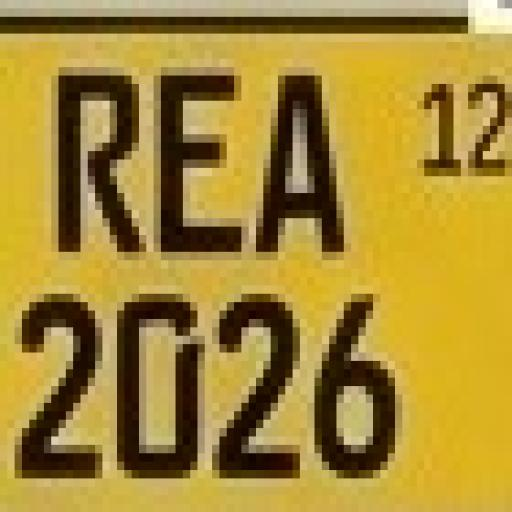0: (109, 291, 202, 475)
2: (14, 298, 104, 478), (212, 302, 304, 478)
6: (311, 287, 398, 481)
A: (255, 67, 349, 252)
E: (158, 76, 244, 252)
R: (51, 78, 153, 253)
